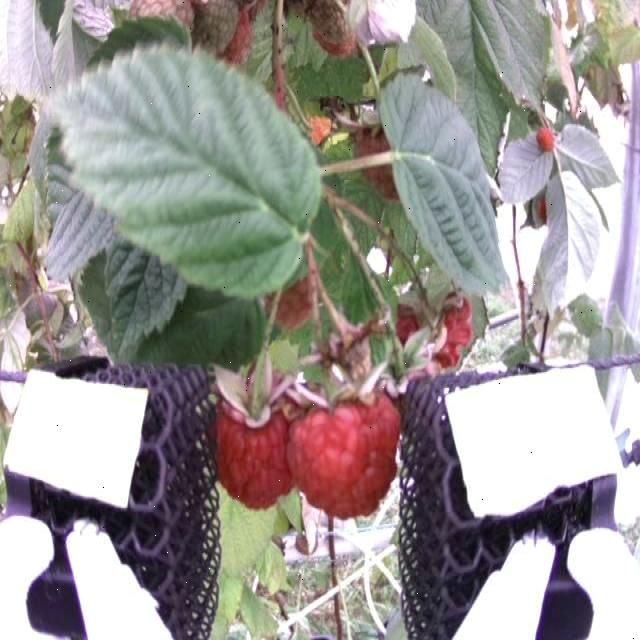Riped berries: (294, 382, 402, 514), (212, 366, 295, 509), (400, 294, 480, 368)
